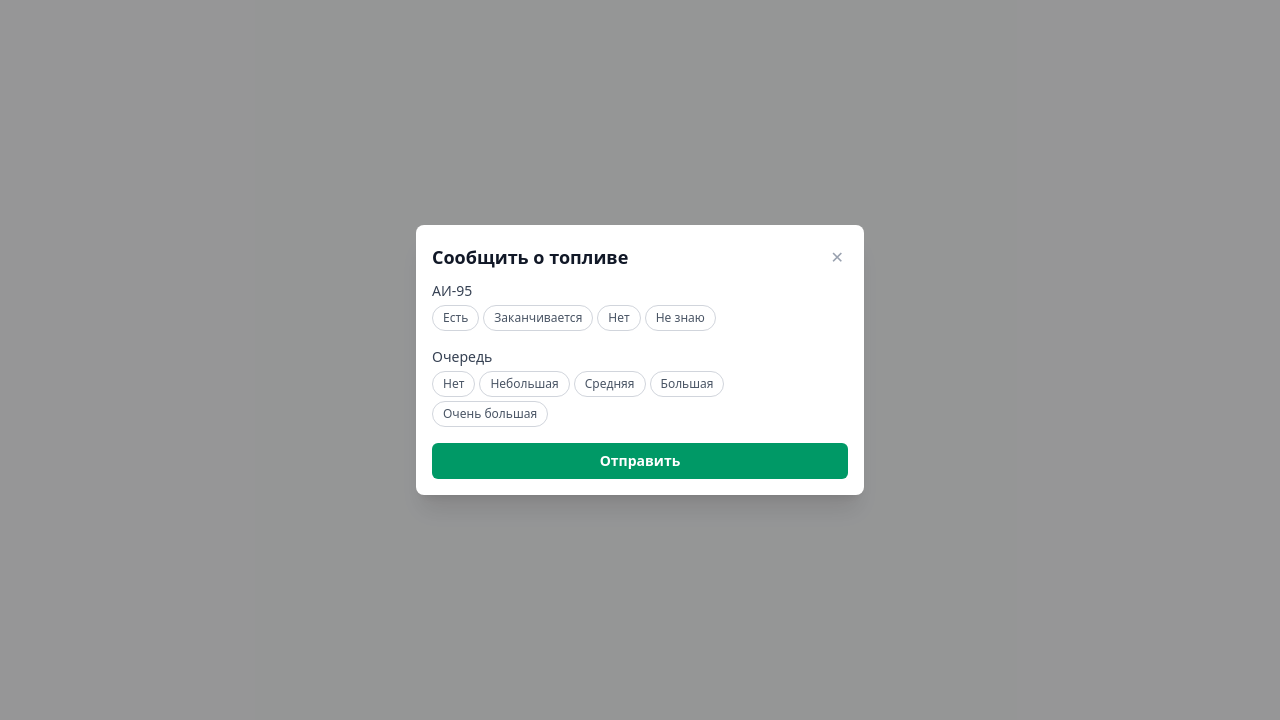
ReportForm (R39) › не отправляет нулевую цену и показывает понятную ошибку (R78.4)
Check: the text "АИ-95" is shown, box [432,281,472,300]
Click the button "Есть" at (456, 318), box [432,305,479,331]
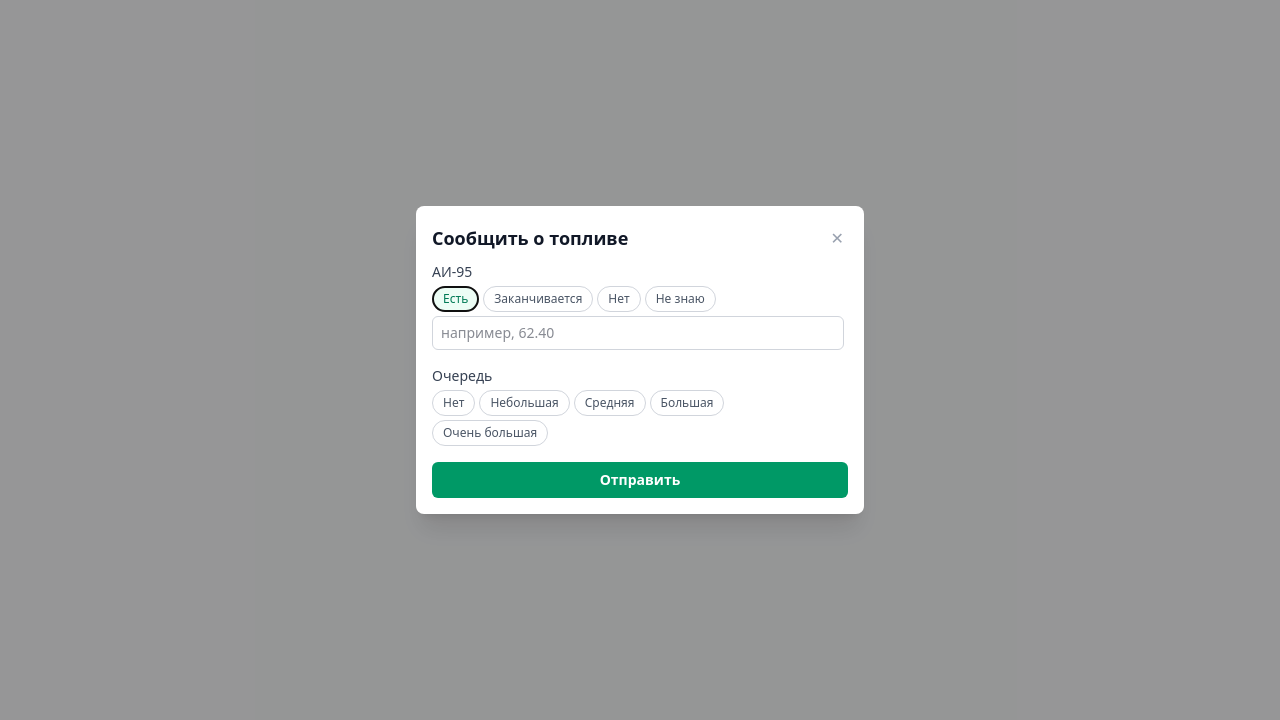
Type "0" into the field labelled "например, 62.40" at (638, 333), box [432,316,844,350]
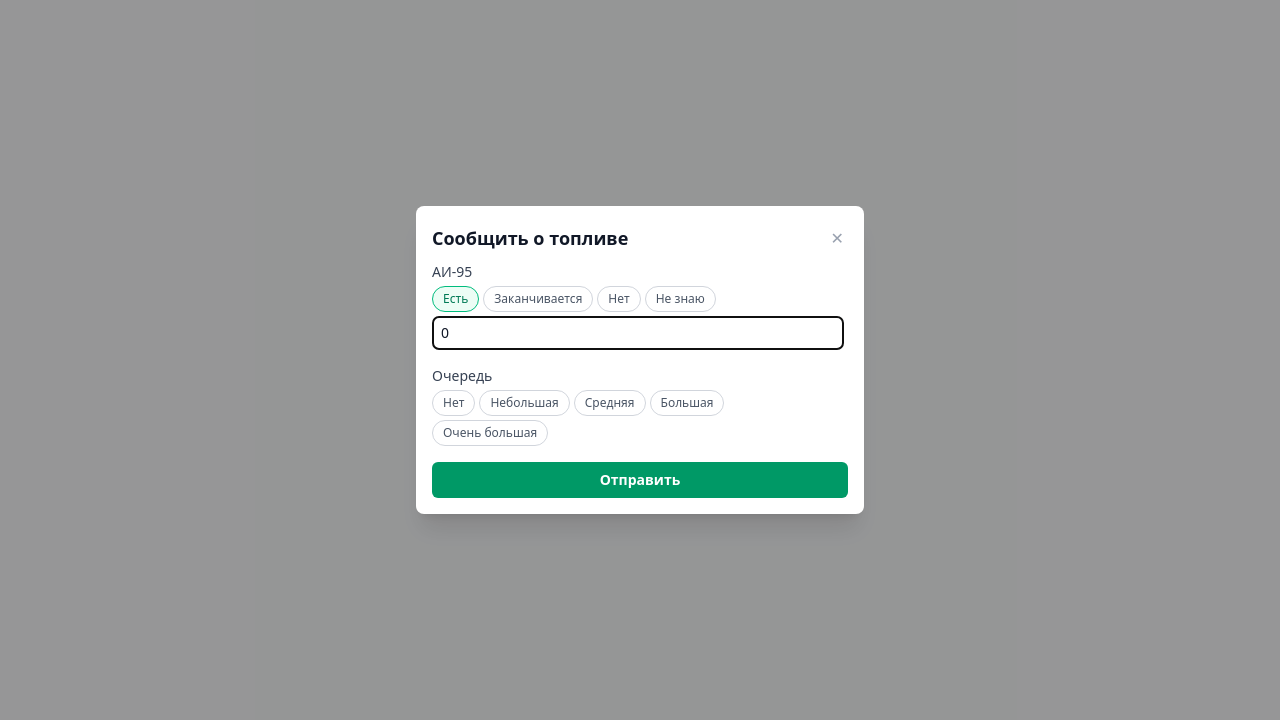
Click the button "Отправить" at (640, 480), box [432,462,848,498]
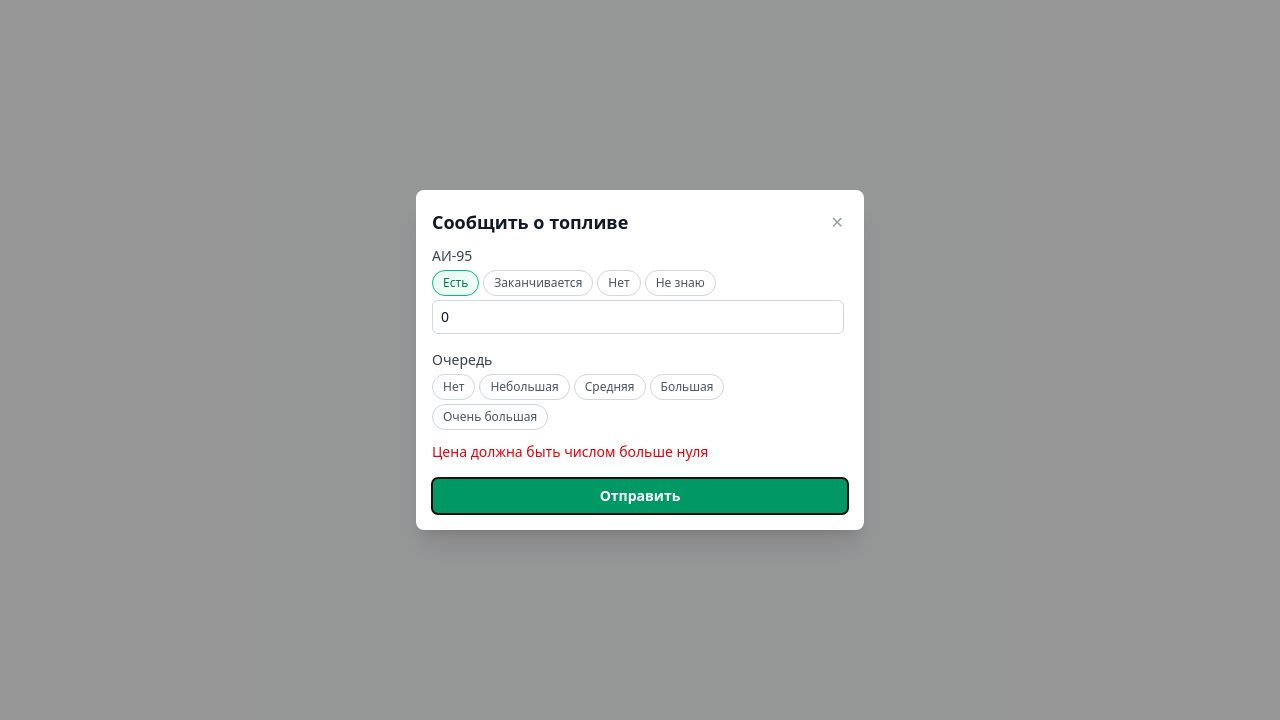
Check: the text "Цена должна быть числом больше нуля" is shown, box [432,442,708,461]
